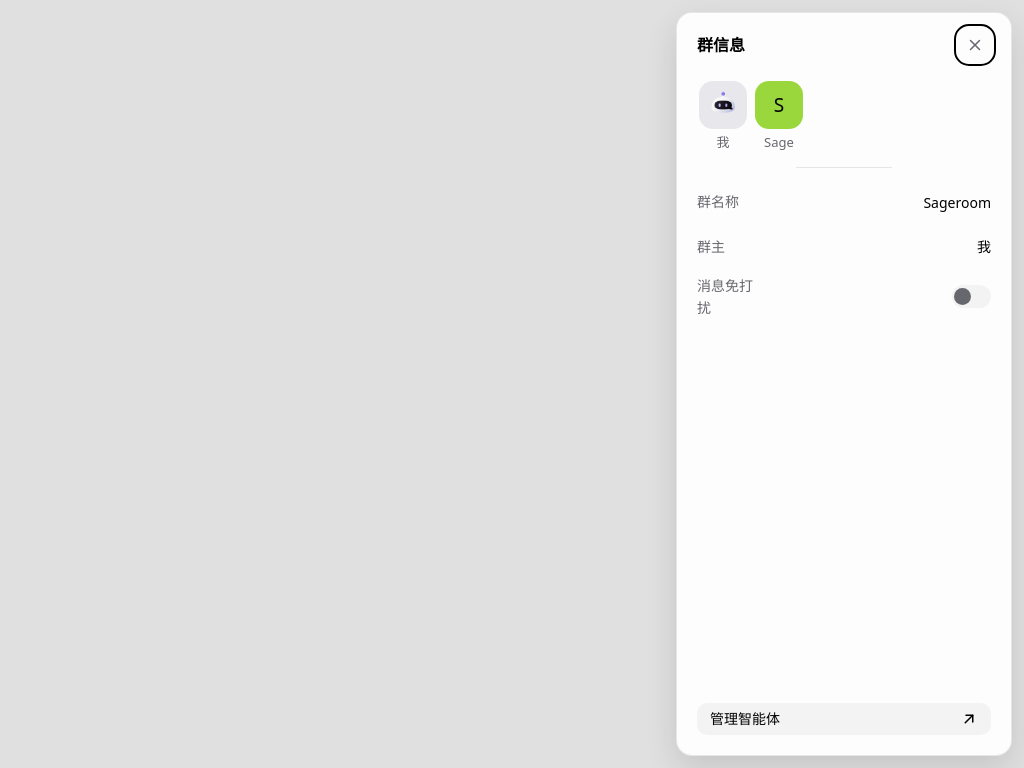
it: 群信息抽屉 › 保存失败保留编辑内容并显示错误
The width and height of the screenshot is (1024, 768).
Click the button with aria-label "编辑群名称" at (947, 202), box [891,184,1003,220]
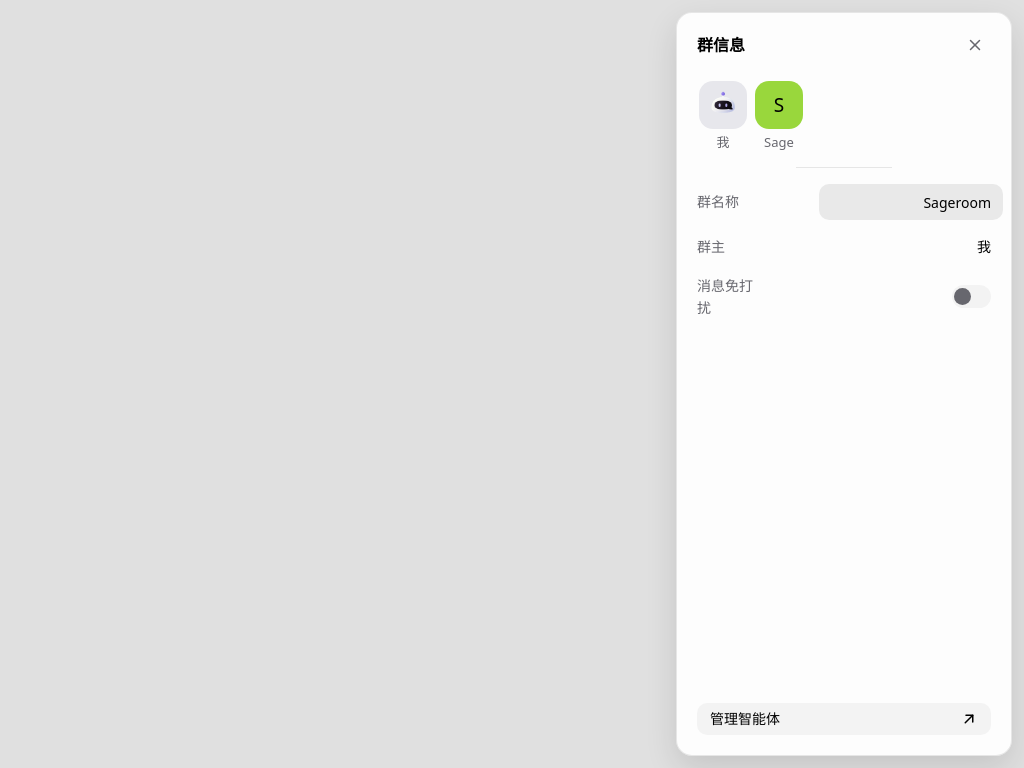
Replace the text in the field labelled "群名称" with "保留草稿" at (911, 202), box [819,184,1003,220]
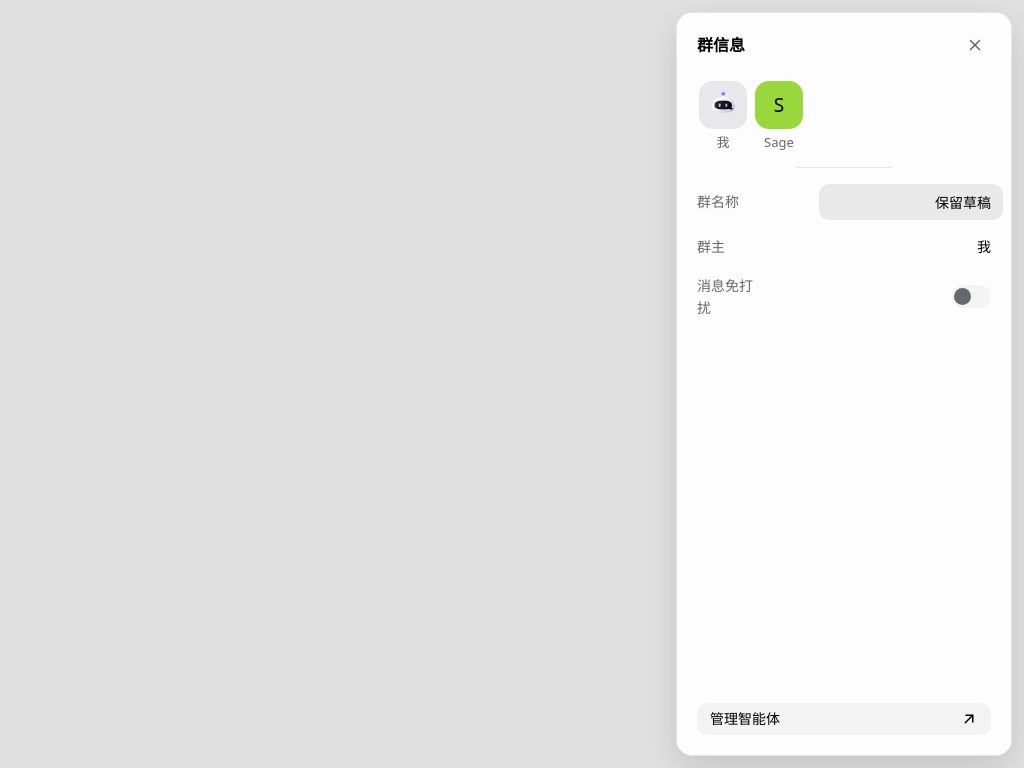
Press Enter in the field labelled "群名称", box [819,184,1003,220]
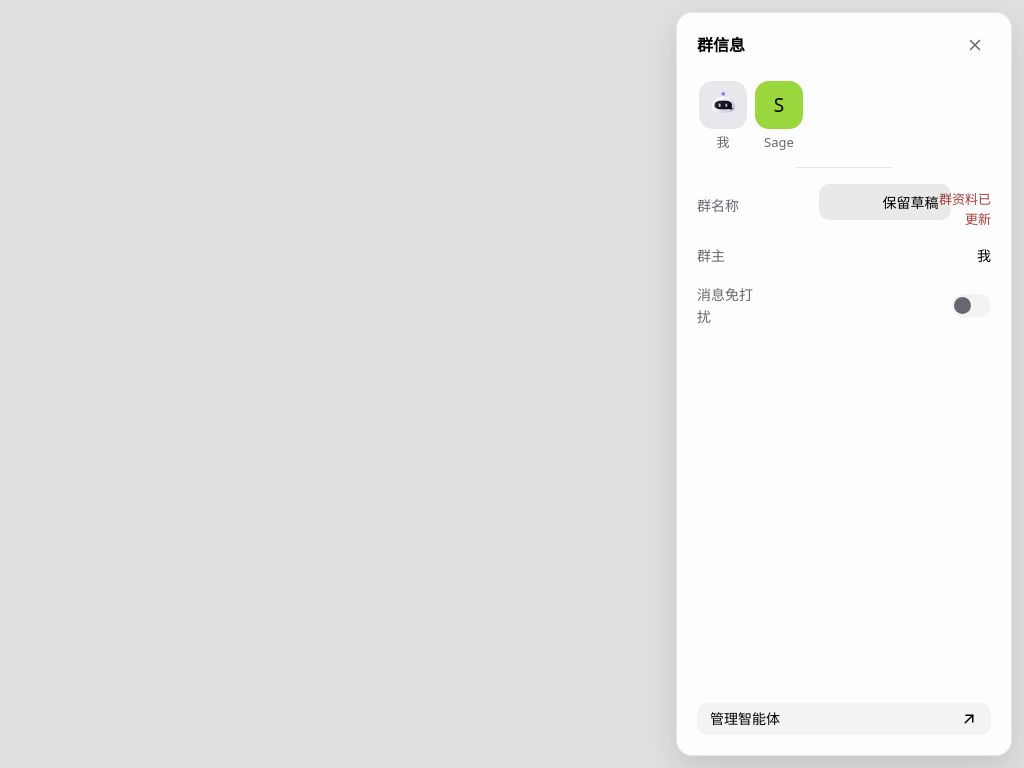
Expected: the message reads "群资料已更新", [939,190,991,228]
